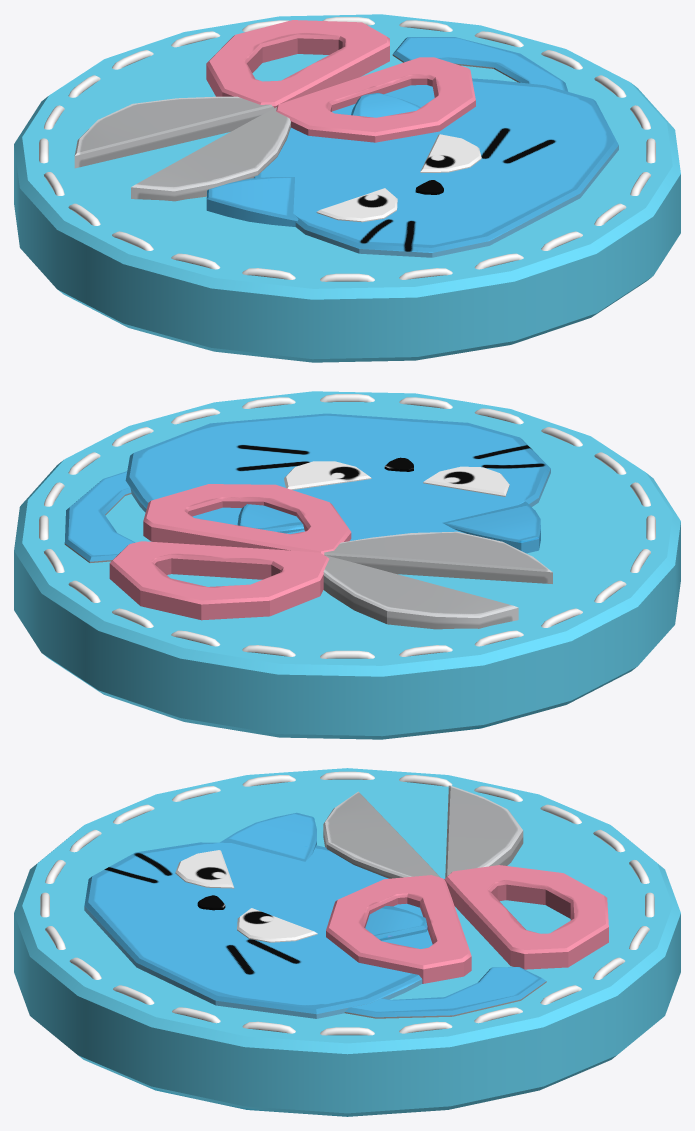
Rendered from patchModelFirst.gltf.
The picture shows the model from 3 angles, top to bottom: view 1: azimuth 30°, elevation 25°; view 2: azimuth 150°, elevation 25°; view 3: azimuth 270°, elevation 25°; orthographic projection.
Parts seen in each view (by area): view 1: wappen_plane5, pCylinder12, wappen_TrailMode5; view 2: wappen_plane5, pCylinder12, wappen_TrailMode5; view 3: wappen_plane5, pCylinder12, wappen_TrailMode5.
Boxes of the visible parts, box(x1,y1,x2,y2) form: wappen_plane5: box(14, 14, 680, 362); pCylinder12: box(74, 20, 618, 257); wappen_TrailMode5: box(39, 17, 655, 281); wappen_plane5: box(14, 391, 680, 739); pCylinder12: box(64, 413, 552, 629); wappen_TrailMode5: box(39, 394, 655, 658); wappen_plane5: box(14, 768, 680, 1116); pCylinder12: box(84, 785, 608, 1018); wappen_TrailMode5: box(40, 771, 654, 1035).
Bounding box in the file's own units: 1.66 × 0.25 × 1.65.
Materials: 1 (1 with a texture image).
